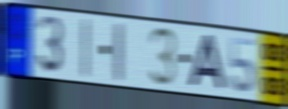3: (149, 25, 178, 89), (36, 14, 64, 75)
5: (229, 35, 257, 95)
A: (186, 33, 228, 93)
I: (113, 20, 125, 84), (81, 17, 91, 81)
